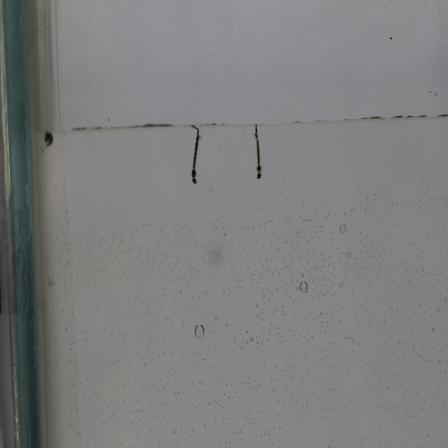Jentik-Nyamuk: (183, 126, 204, 189), (248, 123, 267, 185)
